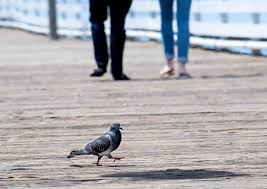Walking: (56, 115, 136, 171)
